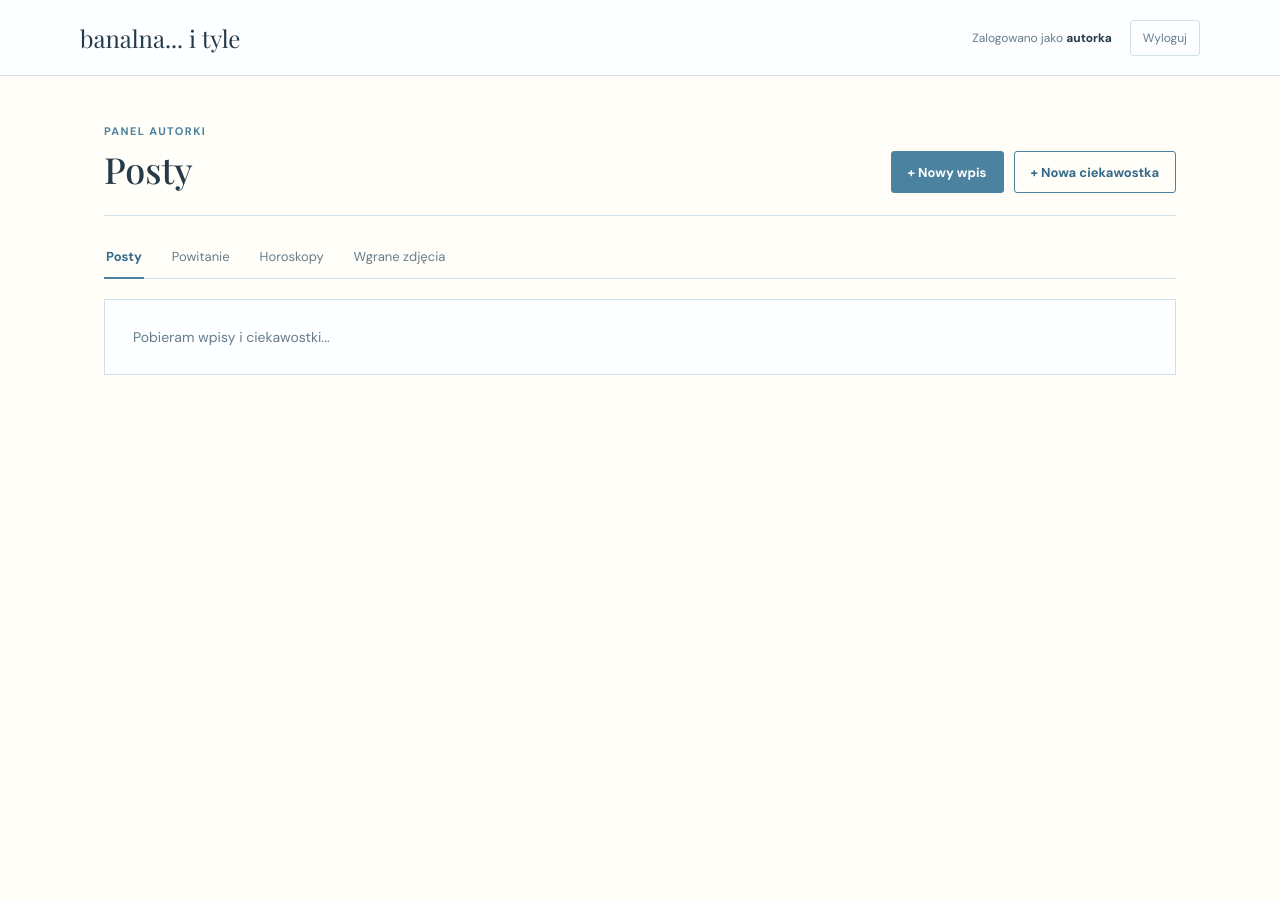
Test: AuthorDashboard › creates a curiosity as a draft and adds it to the list
The width and height of the screenshot is (1280, 900).
Click the button "+ Nowa ciekawostka" at (1095, 172), box 1014,151 -> 1176,193
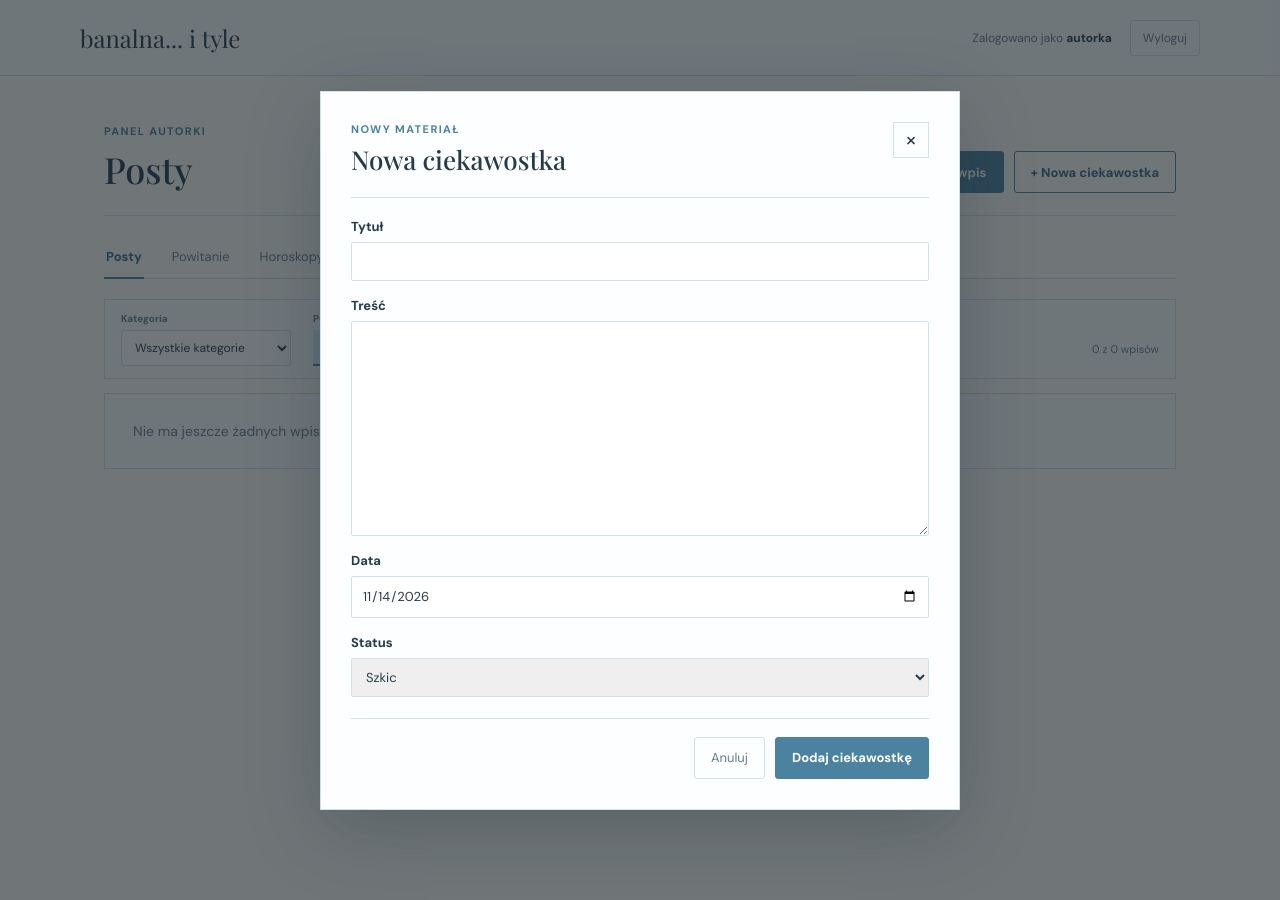
Type "Tytuł ciekawostki" into the field labelled "Tytuł" at (640, 261), box 351,242 -> 929,281
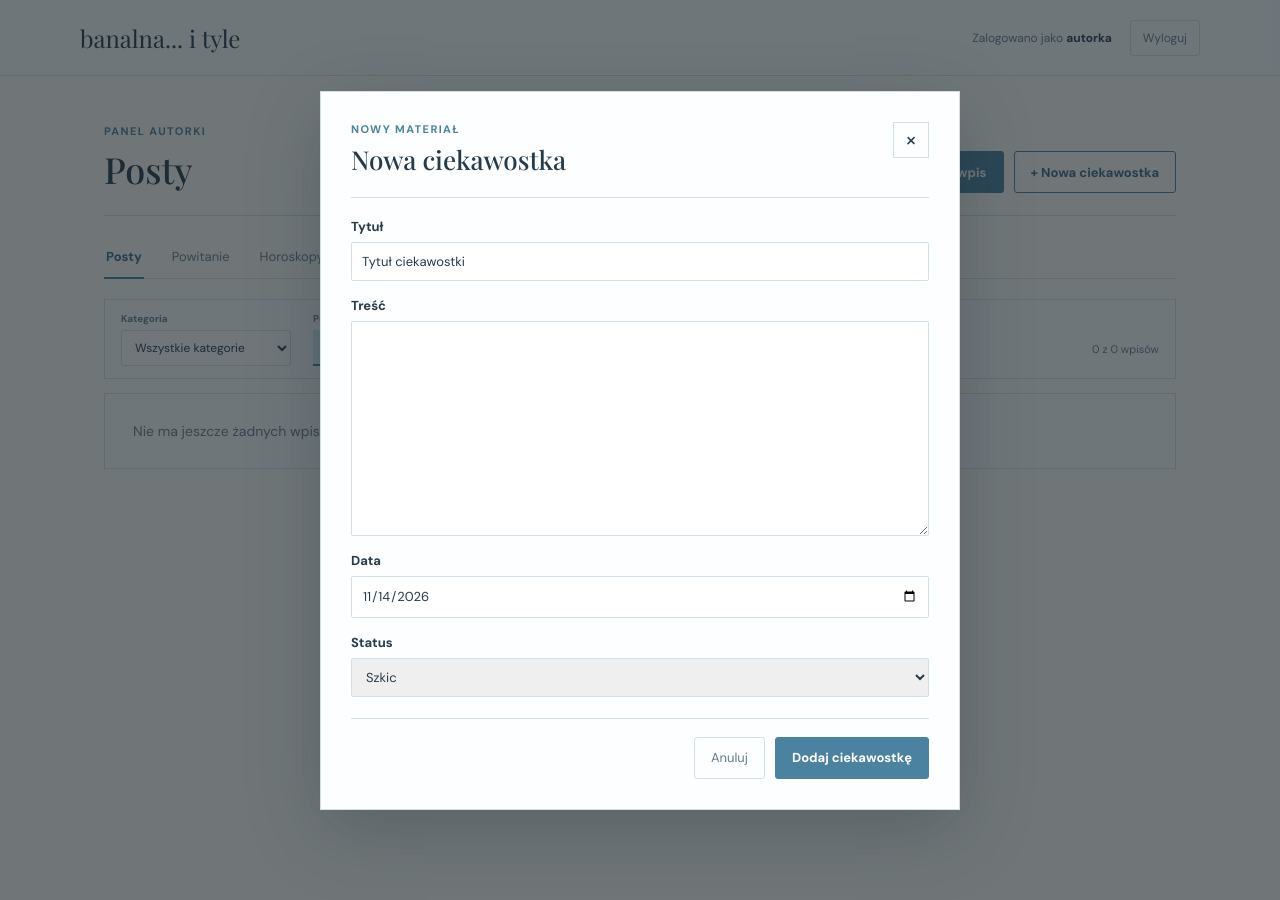
Type "Treść ciekawostki." into the text box labelled "Treść" at (640, 428), box 351,321 -> 929,536
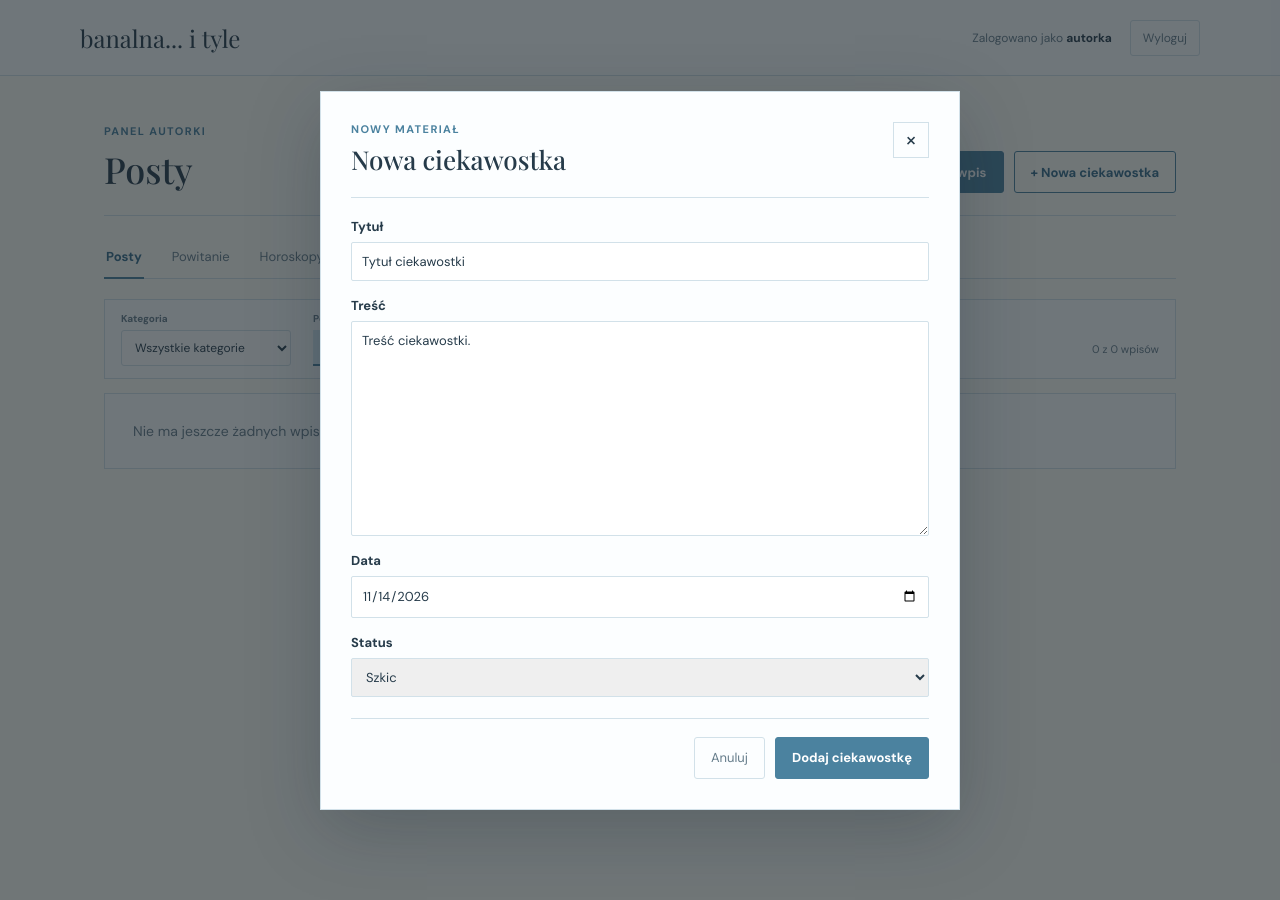
Type "2026-09-11" into the date field labelled "Data" at (640, 597), box 351,576 -> 929,618
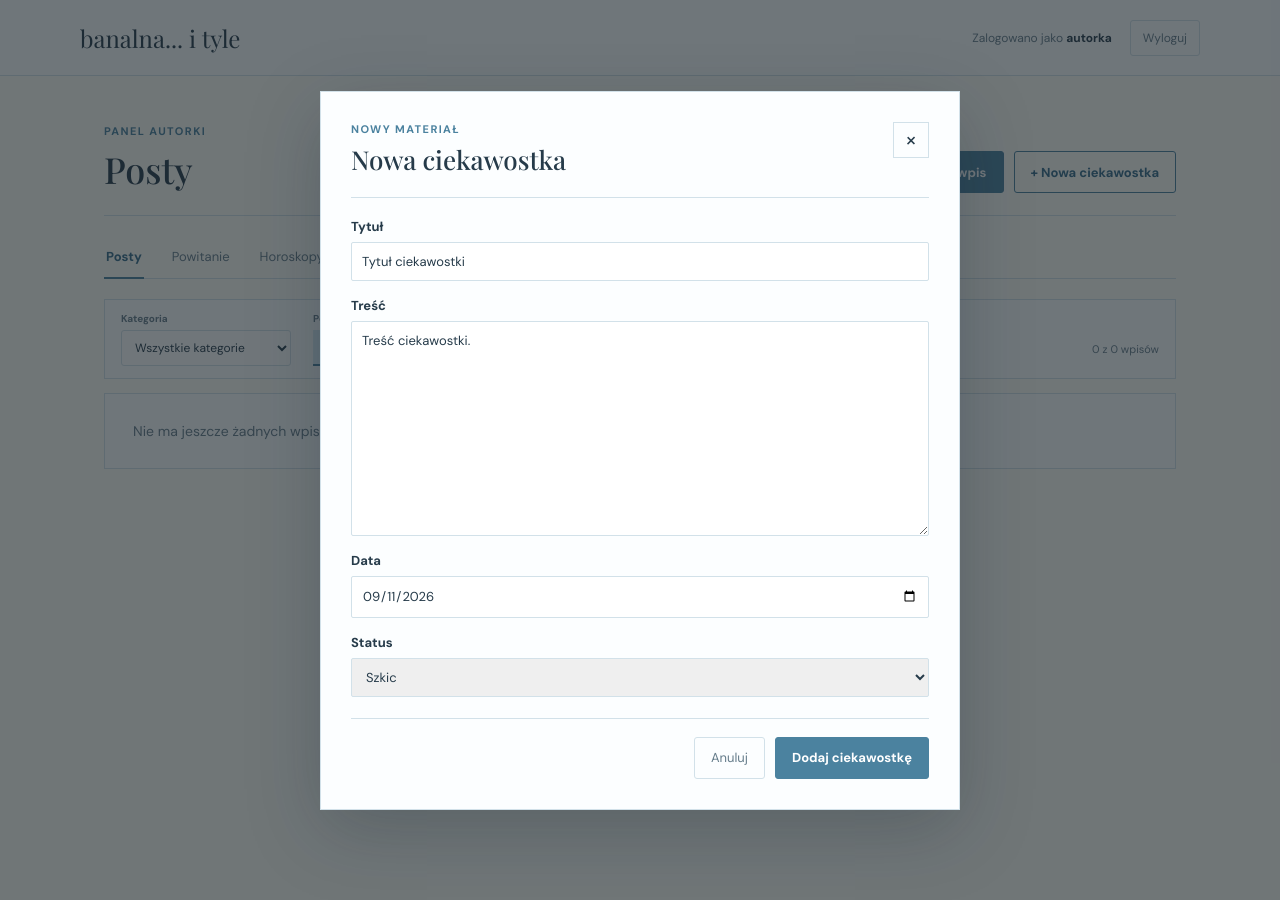
Click the button "Dodaj ciekawostkę" at (852, 758), box 775,736 -> 929,778
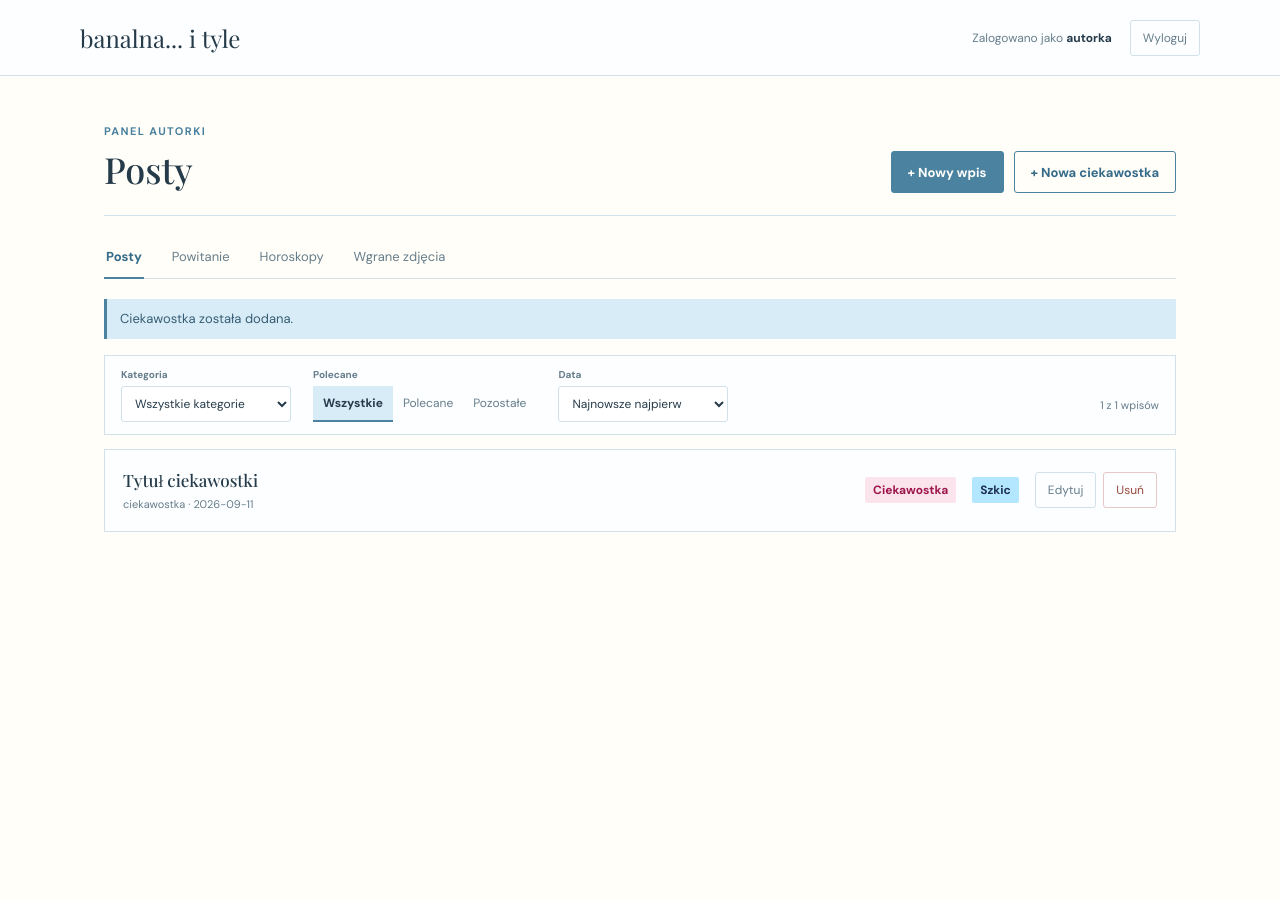
Result: the text "Ciekawostka została dodana." is shown at 104,299 -> 1176,338
Result: the list named "Lista wpisów" shows "Tytuł ciekawostki" at 123,469 -> 258,491
